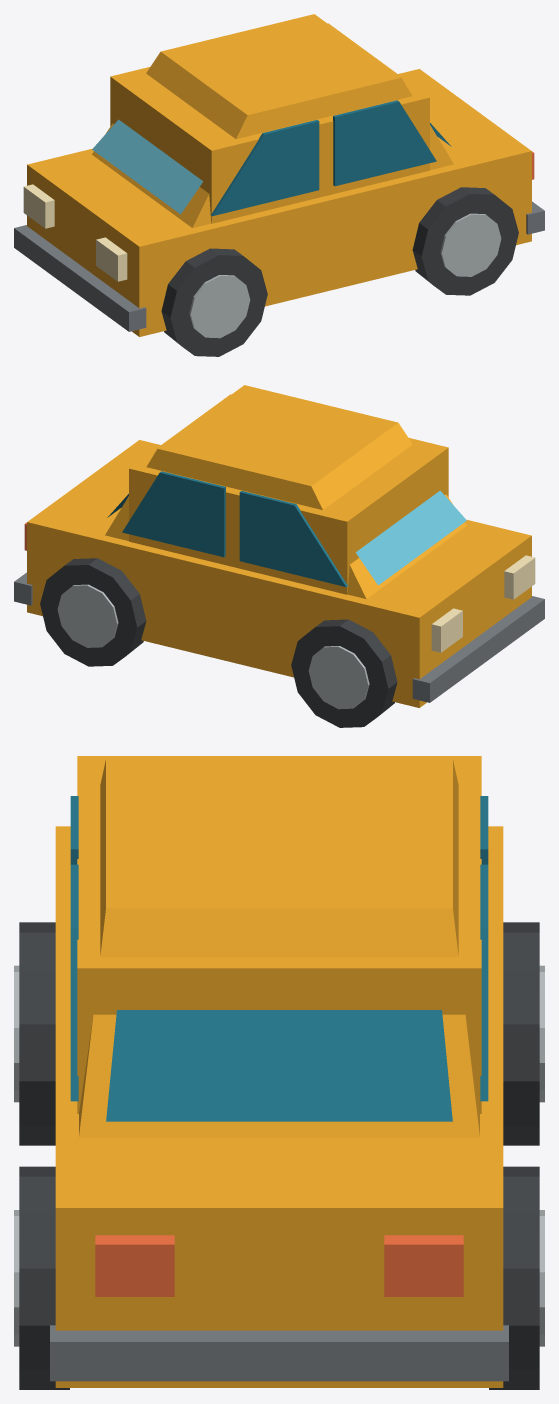
Rendered from Car_Orange.glb.
3 renders of one model, top to bottom at view 1: azimuth 30°, elevation 25°; view 2: azimuth 150°, elevation 25°; view 3: azimuth 270°, elevation 25°, orthographic. The views are drawn at different scales.
Parts seen in each view (by area): view 1: Car_Orange; view 2: Car_Orange; view 3: Car_Orange.
Boxes of the visible parts, bbox=[...] form: Car_Orange: bbox=[14, 14, 544, 356]; Car_Orange: bbox=[14, 385, 544, 727]; Car_Orange: bbox=[14, 756, 544, 1389].
Size of the model in its own units: 2.66 by 1.3 by 1.47.
